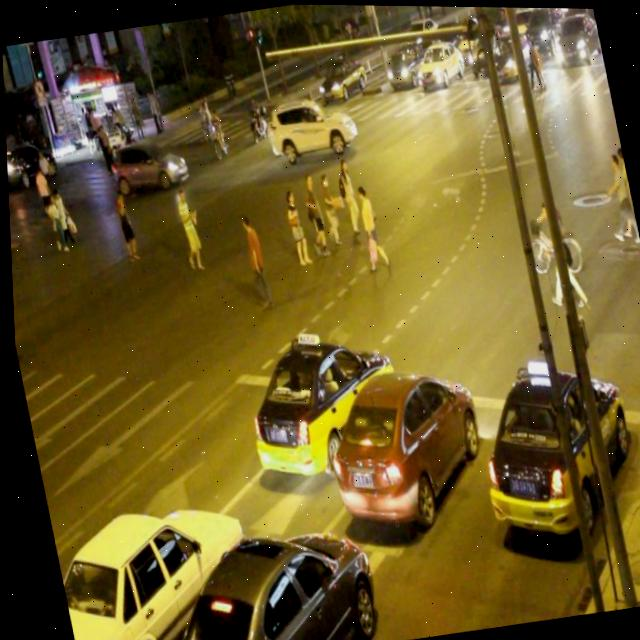car: (463, 356, 640, 546), (45, 492, 262, 640), (313, 360, 490, 529), (232, 325, 404, 484), (143, 524, 377, 640), (260, 91, 360, 163), (107, 132, 190, 195), (310, 51, 368, 103), (411, 35, 462, 87), (380, 41, 426, 88)
